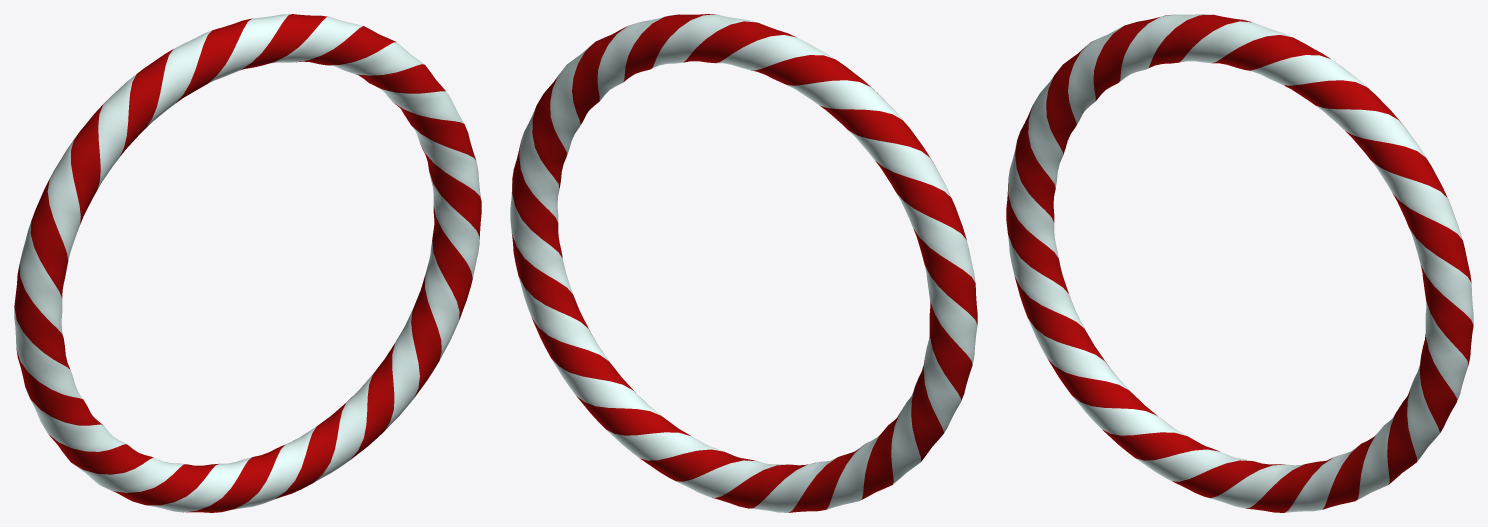
Rendered from Random_Ring.fbx.
3 views of the same model, side by side, from view 1: azimuth 30°, elevation 25°; view 2: azimuth 150°, elevation 25°; view 3: azimuth 330°, elevation 25° (orthographic).
Visible parts, largest first — view 1: Torus001; view 2: Torus001; view 3: Torus001.
Boxes of the visible parts, x1=… form: Torus001: x1=14, y1=14, x2=481, y2=512; Torus001: x1=510, y1=14, x2=977, y2=512; Torus001: x1=1006, y1=14, x2=1473, y2=512.
Bounding box in the file's own units: 219 × 219 × 20.36.
